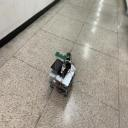cart: (48, 60, 76, 98)
